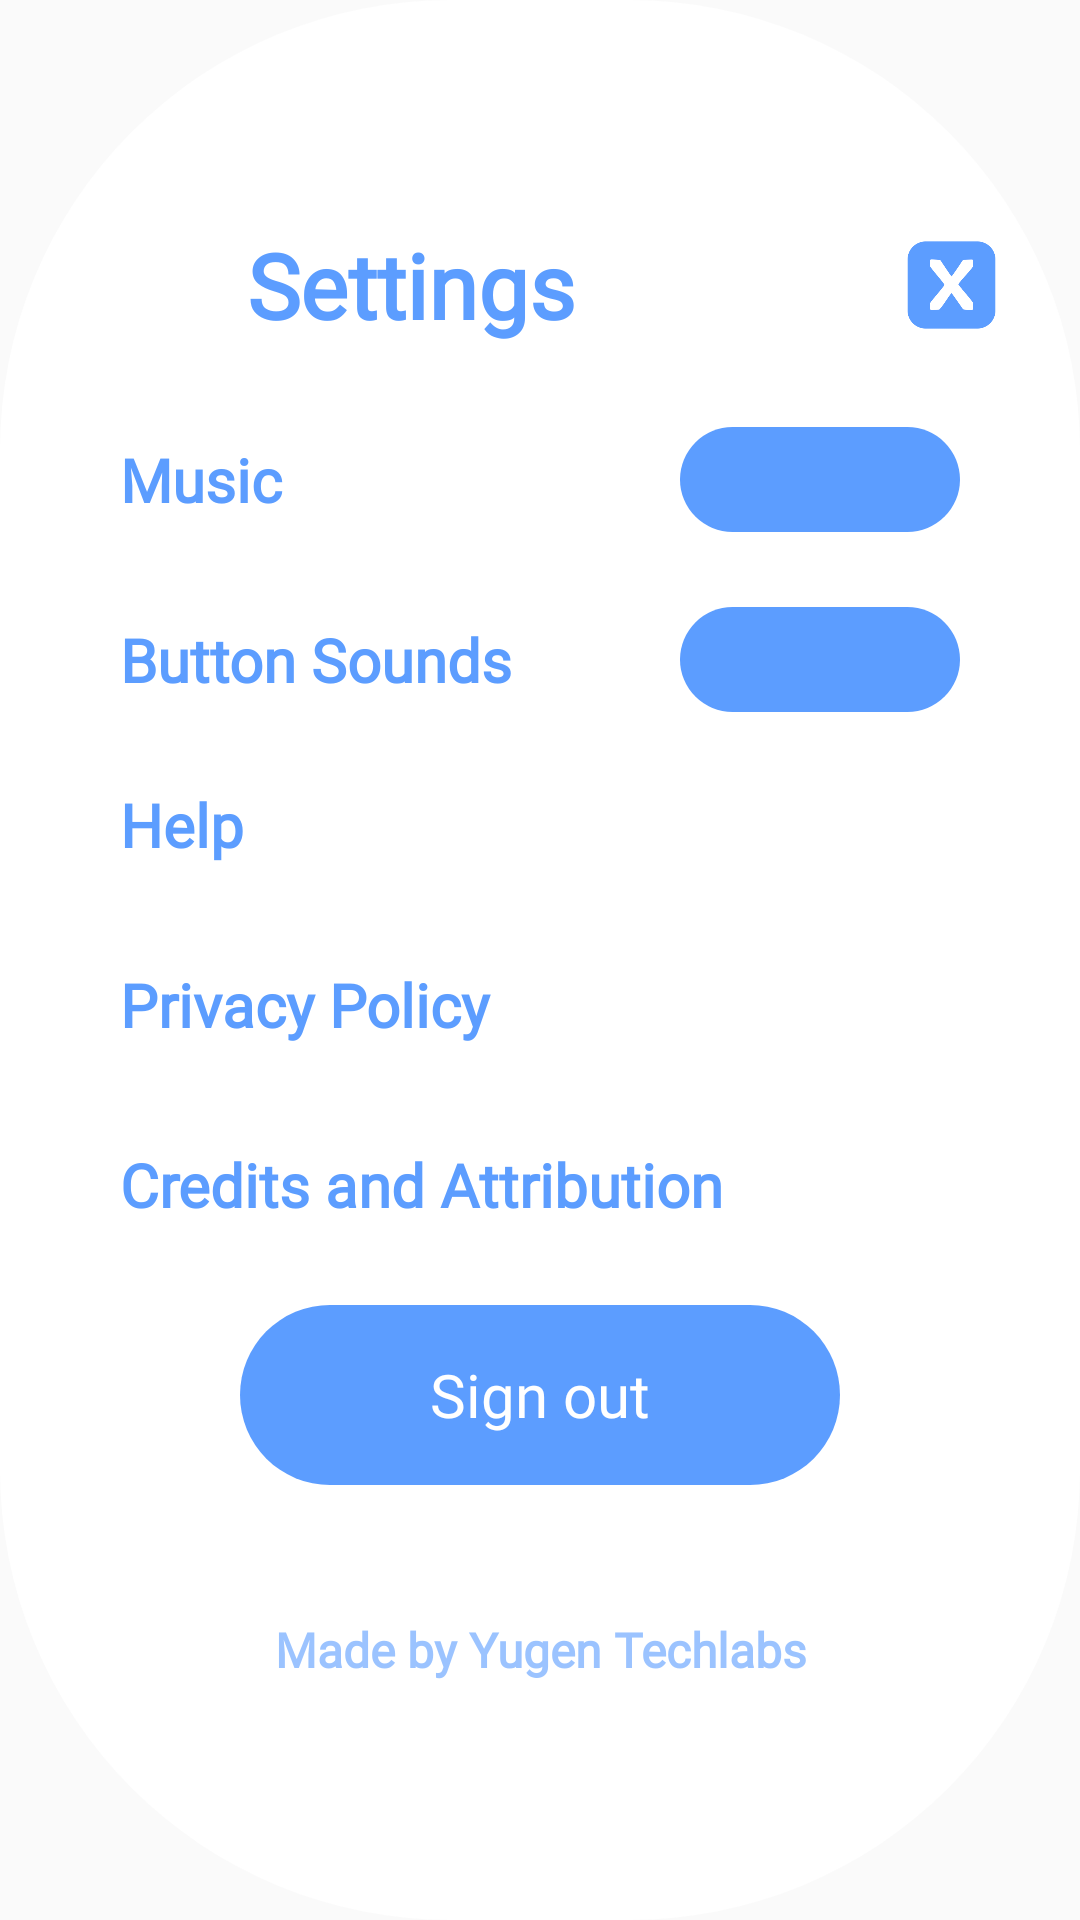

Locate icon controls on the screen. Image size 1080 × 1920, boxes as (x1, y1, x2, y2).
close: (907, 241, 996, 329)
